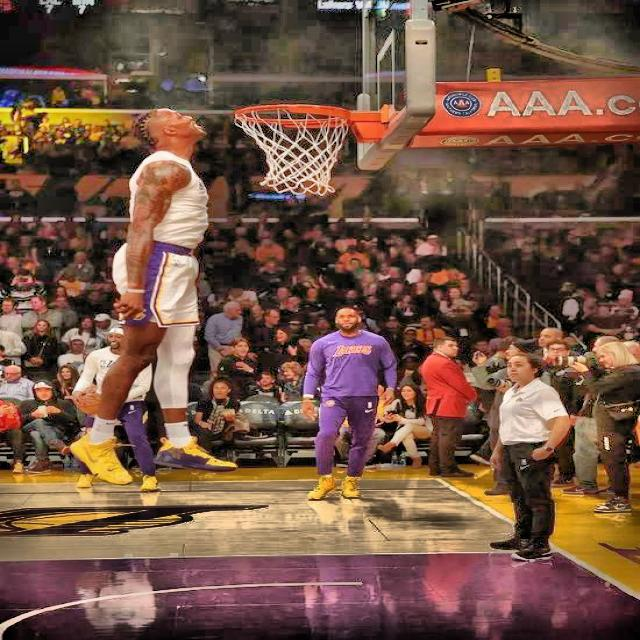rim: (228, 104, 350, 197)
